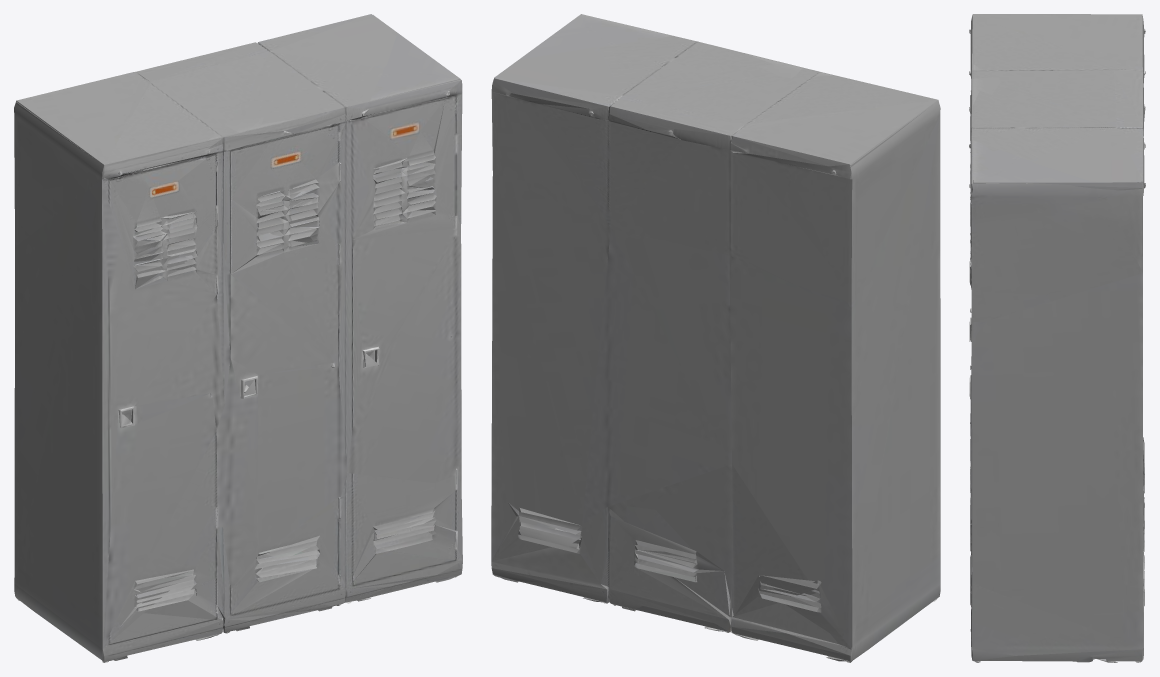
Rendered from lockers.glb.
The picture shows the model from 3 angles, left to right: view 1: azimuth 30°, elevation 25°; view 2: azimuth 150°, elevation 25°; view 3: azimuth 270°, elevation 25°; orthographic projection. The views are drawn at different scales.
Parts seen in each view (by area): view 1: output_unwrapped; view 2: output_unwrapped; view 3: output_unwrapped.
Part boxes in pixels (x1,y1,x2,y2): output_unwrapped: (14,14,462,662); output_unwrapped: (491,14,940,662); output_unwrapped: (969,14,1145,662).
Bounding box in the file's own units: 1.44 × 1.9 × 0.6329.
1 material, 1 textured.
